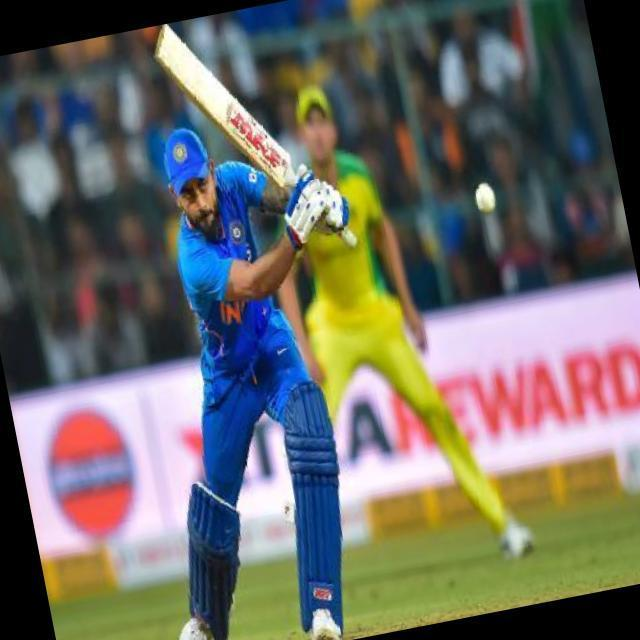-: (459, 168, 512, 231)
